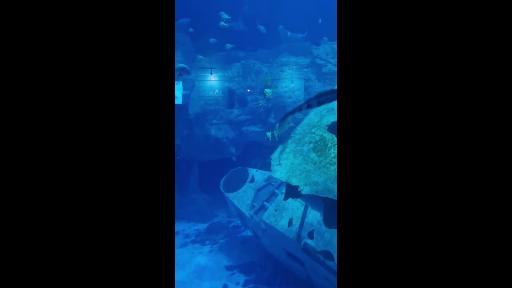Fish: (280, 90, 337, 123), (279, 26, 307, 42), (323, 198, 337, 229), (274, 121, 295, 140), (284, 183, 303, 200), (175, 19, 190, 32), (175, 64, 191, 76), (317, 250, 334, 261), (230, 20, 246, 30), (328, 121, 337, 138), (257, 21, 266, 34), (263, 88, 273, 97), (266, 129, 273, 141), (222, 14, 231, 21), (308, 230, 314, 239), (219, 22, 229, 27), (288, 217, 293, 227), (225, 44, 234, 49), (295, 114, 304, 118), (312, 42, 321, 46), (188, 28, 194, 33), (210, 39, 217, 43), (197, 56, 206, 59), (319, 19, 321, 23)
